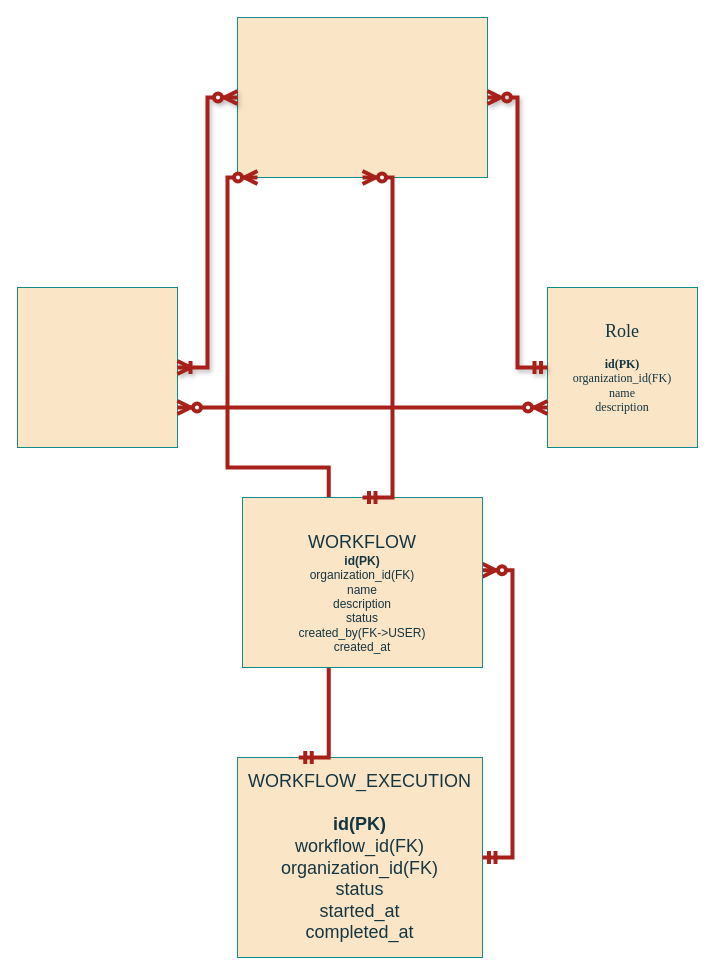
This 715x975 diagram has some shape labels left out. Each missing label, with the centre of its shape:
"Organization id(PK) name slug(UNIQUE) status created_at updated_at" goes at (x=362, y=97).
"USER id(PK) organization_id(FK) email password_hash status created_at updated_at" goes at (x=97, y=367).
